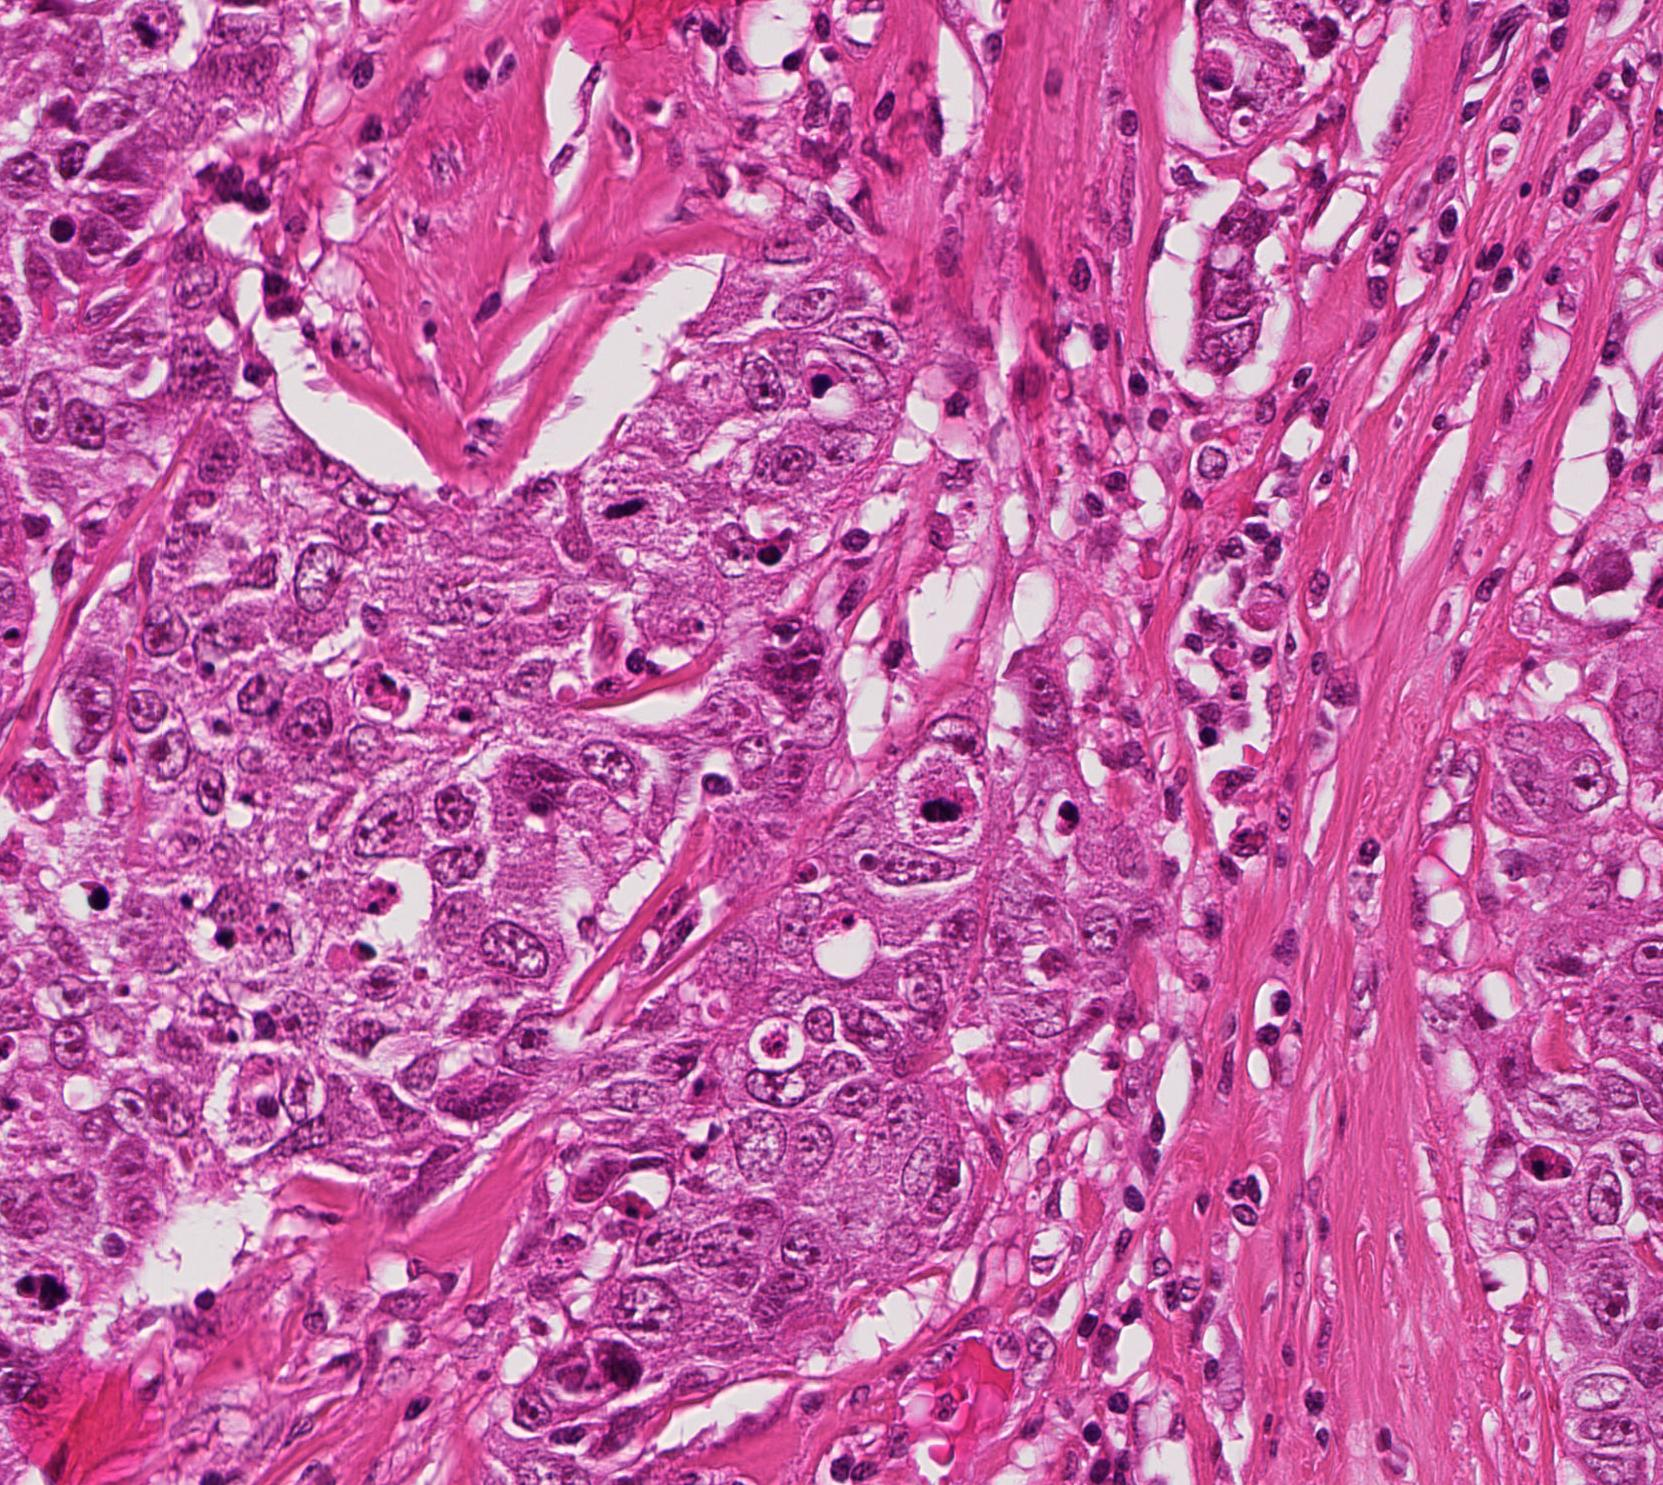mitosis: (595, 469, 655, 529)
